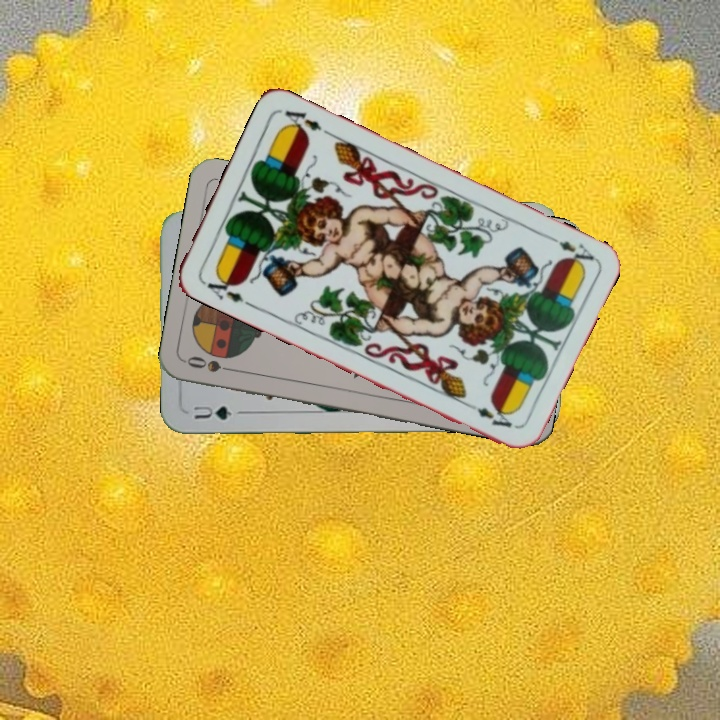EA: (542, 231, 597, 270), (203, 270, 246, 305)
GU: (188, 401, 234, 422)
SO: (182, 352, 241, 375)
